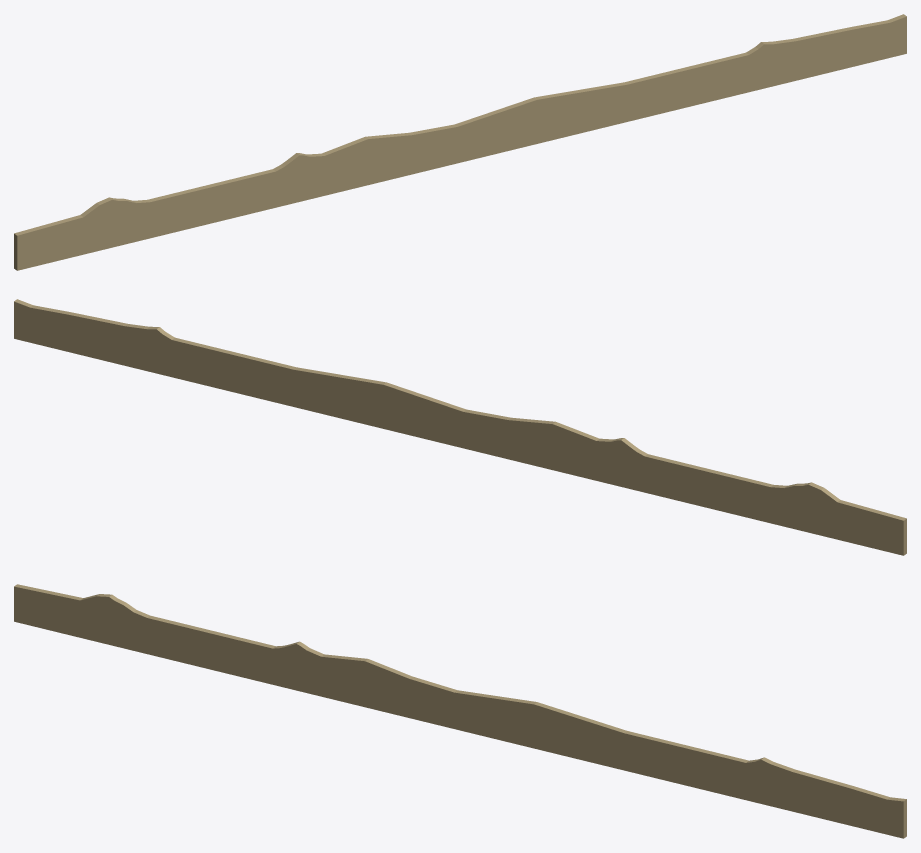
3 renders of one model, top to bottom at view 1: azimuth 30°, elevation 25°; view 2: azimuth 150°, elevation 25°; view 3: azimuth 330°, elevation 25°, orthographic.
Parts seen in each view (by area): view 1: layer2; view 2: layer2; view 3: layer2.
Boxes of the visible parts, left/top/right/bottom form: layer2: left=14, top=14, right=906, bottom=270; layer2: left=14, top=299, right=906, bottom=555; layer2: left=14, top=584, right=906, bottom=838.
Bounding box in the file's own units: 7.96 × 0.4095 × 0.05.
